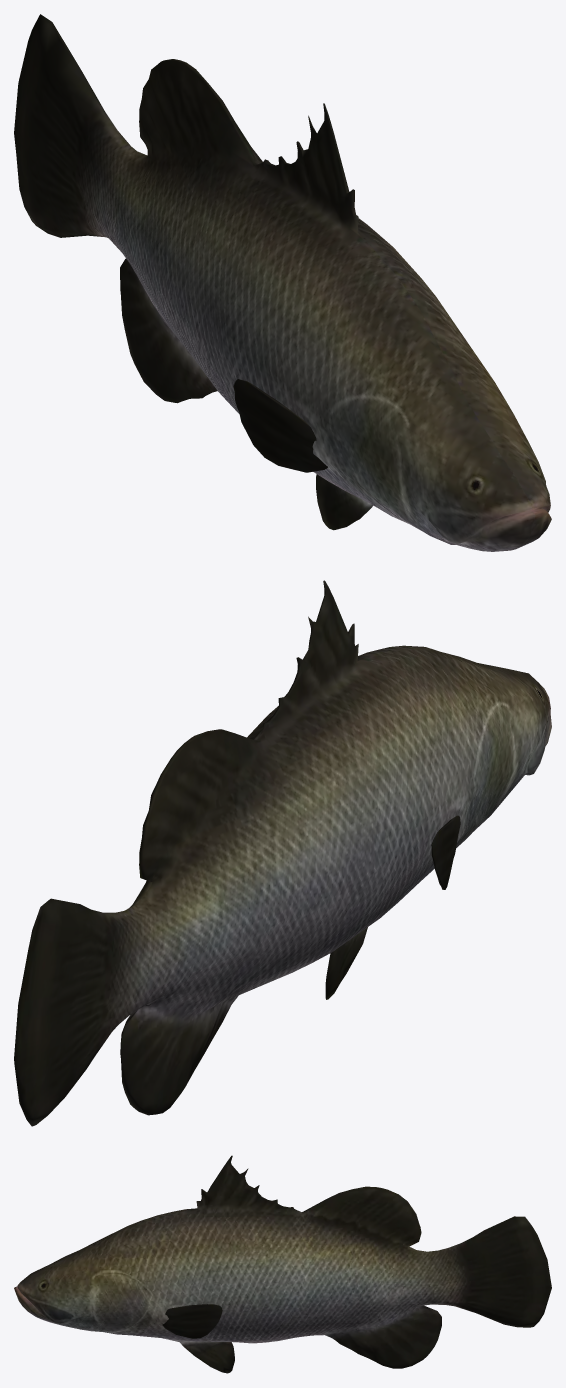
File: cc0-barramundi-fish.glb
The picture shows the model from 3 angles, top to bottom: view 1: azimuth 30°, elevation 25°; view 2: azimuth 150°, elevation 25°; view 3: azimuth 270°, elevation 25°; orthographic projection. The views are drawn at different scales.
Parts seen in each view (by area): view 1: BarramundiFish; view 2: BarramundiFish; view 3: BarramundiFish.
Boxes of the visible parts, box(x1,y1,x2,y2) form: BarramundiFish: box(14, 14, 551, 551); BarramundiFish: box(14, 580, 551, 1126); BarramundiFish: box(14, 1155, 551, 1373).
Size of the model in its own units: 0.1429 by 0.2875 by 0.6431.
1 material, 1 textured.
